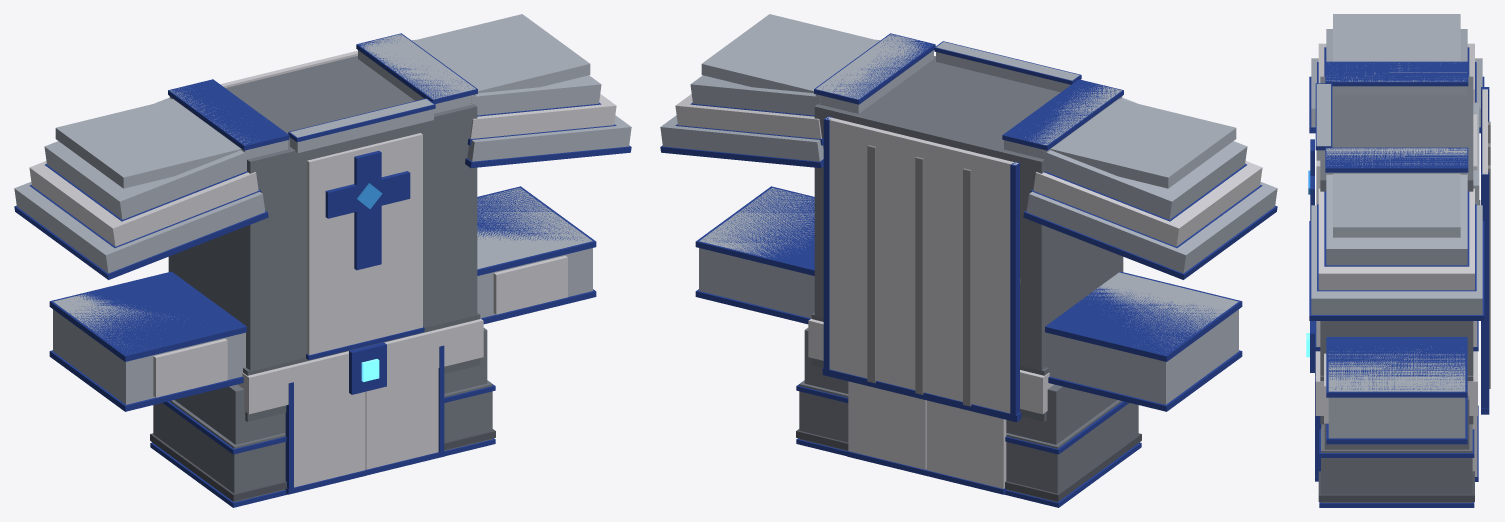
3 views of the same model, side by side, from view 1: azimuth 30°, elevation 25°; view 2: azimuth 150°, elevation 25°; view 3: azimuth 270°, elevation 25° (orthographic). The views are drawn at different scales.
Parts seen in each view (by area): view 1: bastion-hauberk; view 2: bastion-hauberk; view 3: bastion-hauberk.
Part boxes in pixels (left/top/right/bottom): bastion-hauberk: left=14, top=14, right=631, bottom=507; bastion-hauberk: left=660, top=14, right=1277, bottom=507; bastion-hauberk: left=1306, top=14, right=1490, bottom=507.
Bounding box in the file's own units: 1.27 × 0.8239 × 0.4127.
